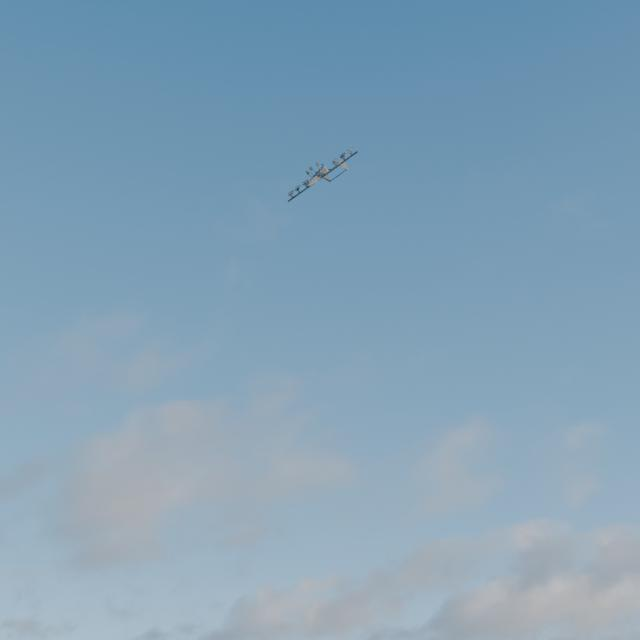Airaplan: (288, 147, 358, 202)
